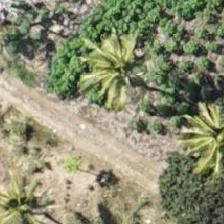coconut_tree: (67, 18, 157, 108), (168, 88, 223, 178), (0, 154, 55, 223)
